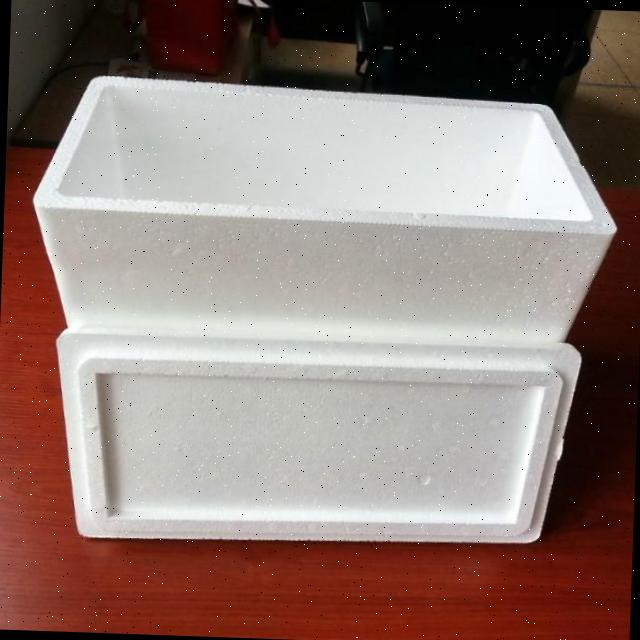styrofoam: (19, 70, 622, 555)
